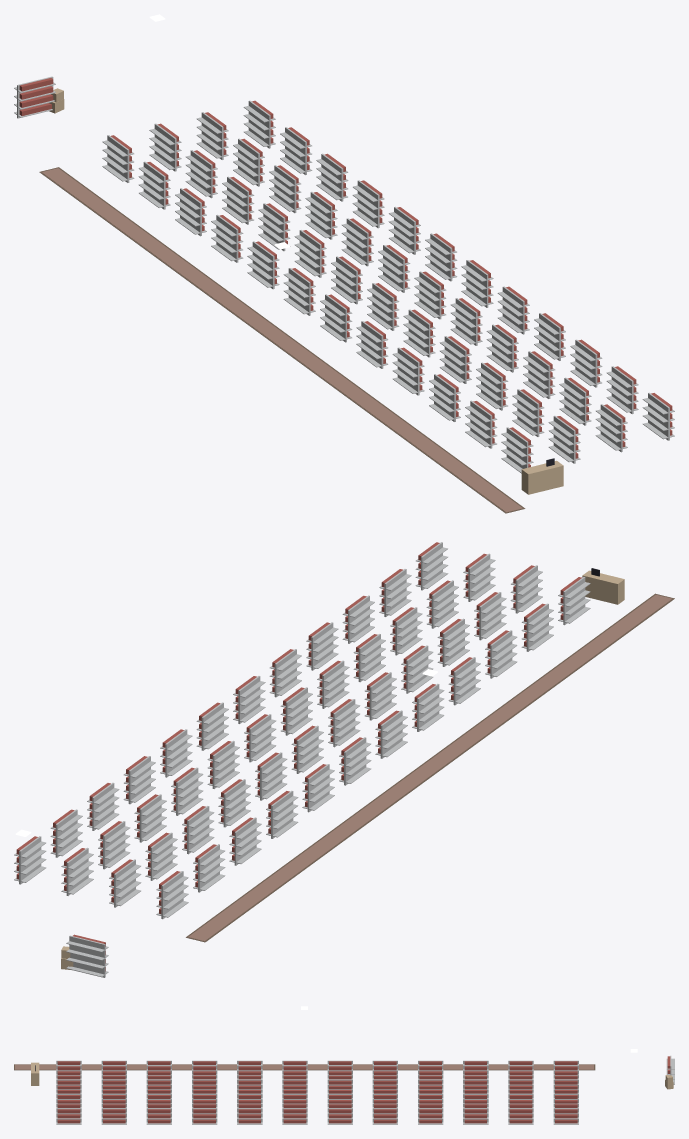
File: fine-s0.glb
3 renders of one model, top to bottom at view 1: azimuth 30°, elevation 25°; view 2: azimuth 150°, elevation 25°; view 3: azimuth 270°, elevation 25°, orthographic. The views are drawn at different scales.
Parts seen in each view (by area): view 1: soft-s0, shelving.000, shop-counter.000, shelf.036, shelf.046, shelf.001, shelf.005, shelf.008, shelf.013, shelf.023, shelf.024, shelf.020 (+39 smaller); view 2: soft-s0, shelving.000, shop-counter.000, shelf.033, shelf.040, shelf.022, shelf.038, shelf.007, shelf.009, shelf.014, shelf.035, shelf.046 (+39 smaller); view 3: soft-s0, shelf.037, shelf.038, shelf.042, shelf.043, shelf.047, shelf.036, shelf.039, shelf.040, shelf.041, shelf.044, shelf.045 (+38 smaller).
Boxes of the visible parts, left/top/right/bottom form: soft-s0: left=39, top=167, right=525, bottom=513; shelving.000: left=14, top=76, right=55, bottom=118; shop-counter.000: left=521, top=458, right=563, bottom=494; shelf.036: left=243, top=100, right=275, bottom=148; shelf.046: left=606, top=366, right=638, bottom=414; shelf.001: left=138, top=161, right=170, bottom=209; shelf.005: left=283, top=268, right=315, bottom=315; shelf.008: left=392, top=347, right=424, bottom=395; shelf.013: left=185, top=150, right=217, bottom=198; shelf.023: left=548, top=415, right=580, bottom=463; shelf.024: left=196, top=112, right=228, bottom=159; shelf.020: left=439, top=336, right=471, bottom=383; soft-s0: left=186, top=593, right=674, bottom=942; shelving.000: left=66, top=934, right=108, bottom=977; shop-counter.000: left=582, top=568, right=624, bottom=604; shelf.033: left=390, top=607, right=422, bottom=655; shelf.040: left=160, top=729, right=192, bottom=777; shelf.022: left=474, top=592, right=506, bottom=640; shelf.038: left=87, top=782, right=119, bottom=830; shelf.007: left=412, top=683, right=444, bottom=731; shelf.009: left=485, top=630, right=517, bottom=678; shelf.014: left=182, top=806, right=214, bottom=854; shelf.035: left=463, top=553, right=495, bottom=601; shelf.046: left=379, top=569, right=411, bottom=616; soft-s0: left=14, top=1064, right=595, bottom=1070; shelf.037: left=508, top=1103, right=533, bottom=1124; shelf.038: left=463, top=1103, right=488, bottom=1124; shelf.042: left=282, top=1103, right=307, bottom=1124; shelf.043: left=237, top=1103, right=262, bottom=1124; shelf.047: left=56, top=1103, right=81, bottom=1124; shelf.036: left=553, top=1103, right=578, bottom=1124; shelf.039: left=418, top=1103, right=443, bottom=1124; shelf.040: left=372, top=1103, right=397, bottom=1124; shelf.041: left=327, top=1103, right=352, bottom=1124; shelf.044: left=192, top=1103, right=217, bottom=1124; shelf.045: left=146, top=1103, right=171, bottom=1124.
Size of the model in its own units: 10.34 by 4.63 by 46.79.
